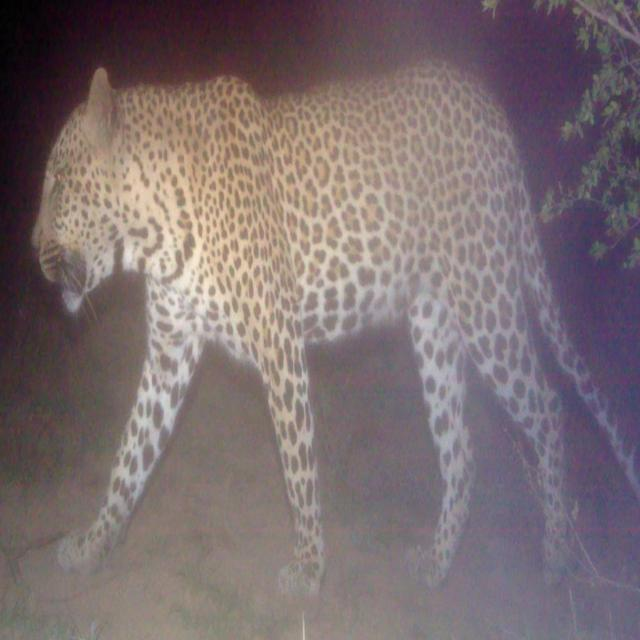Leopard: (20, 50, 640, 604)
